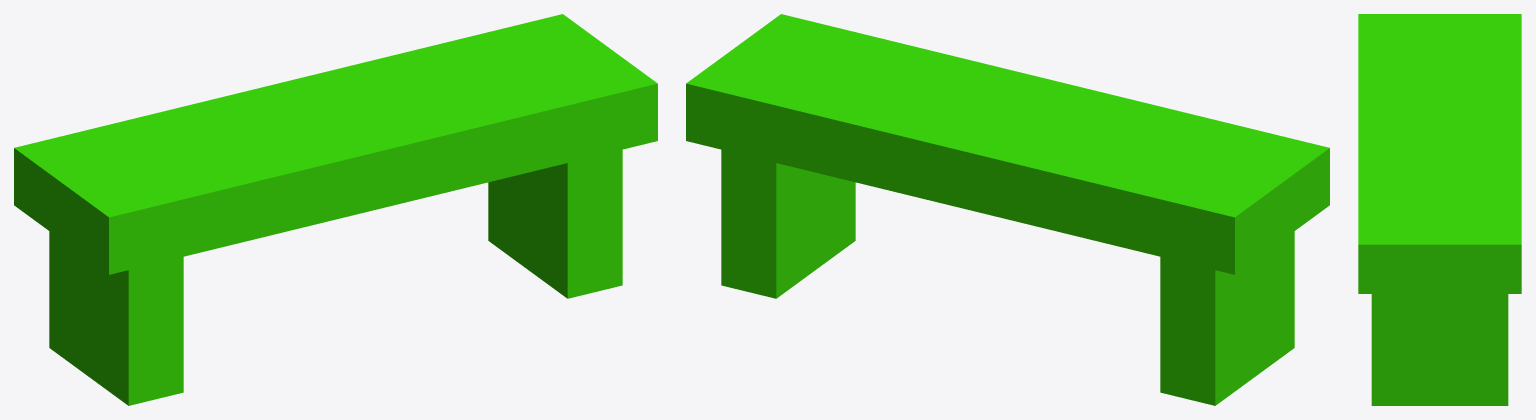
Rendered from bench01.fbx.
3 views of the same model, side by side, from view 1: azimuth 30°, elevation 25°; view 2: azimuth 150°, elevation 25°; view 3: azimuth 270°, elevation 25° (orthographic). The views are drawn at different scales.
Parts seen in each view (by area): view 1: bench01; view 2: bench01; view 3: bench01.
Boxes of the visible parts, bbox=[...] form: bench01: bbox=[14, 14, 657, 405]; bench01: bbox=[686, 14, 1329, 405]; bench01: bbox=[1358, 14, 1521, 405].
Size of the model in its own units: 200 by 70 by 60.
